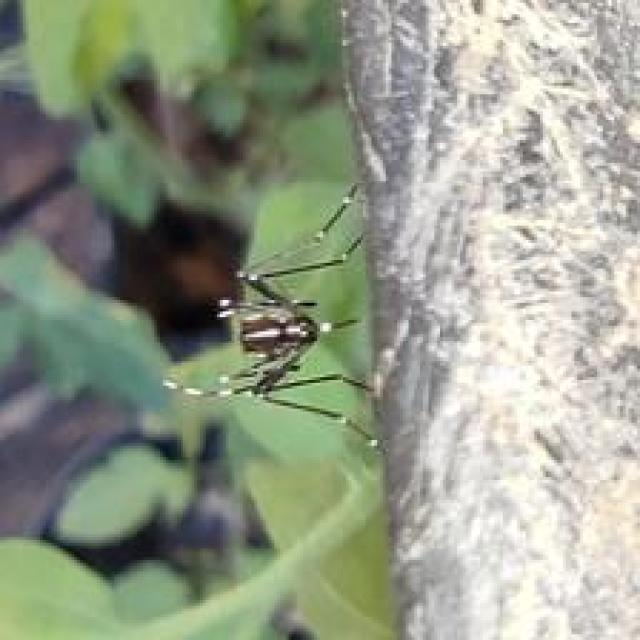Aedes albopictus: (160, 183, 383, 451)
